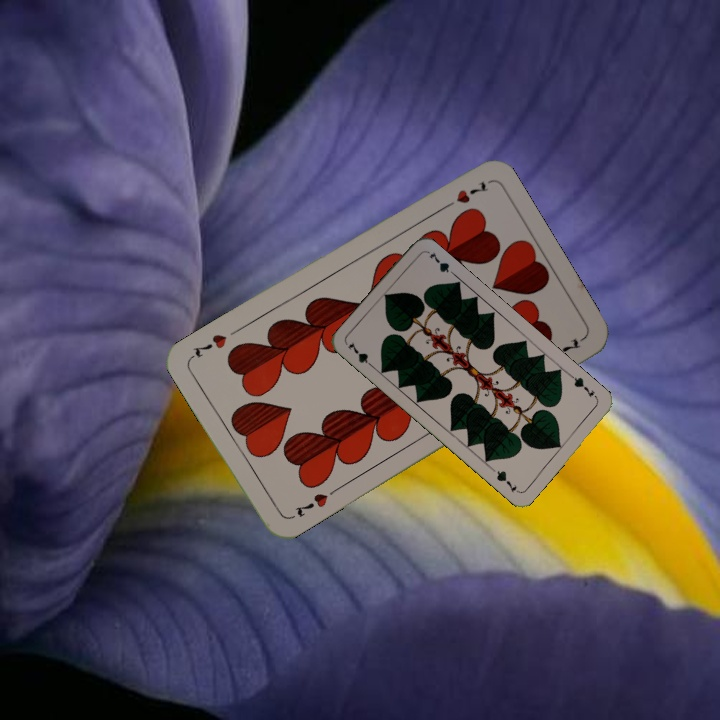G7: (344, 338, 377, 371), (567, 371, 600, 402)
H7: (437, 177, 491, 213), (290, 489, 331, 520)
